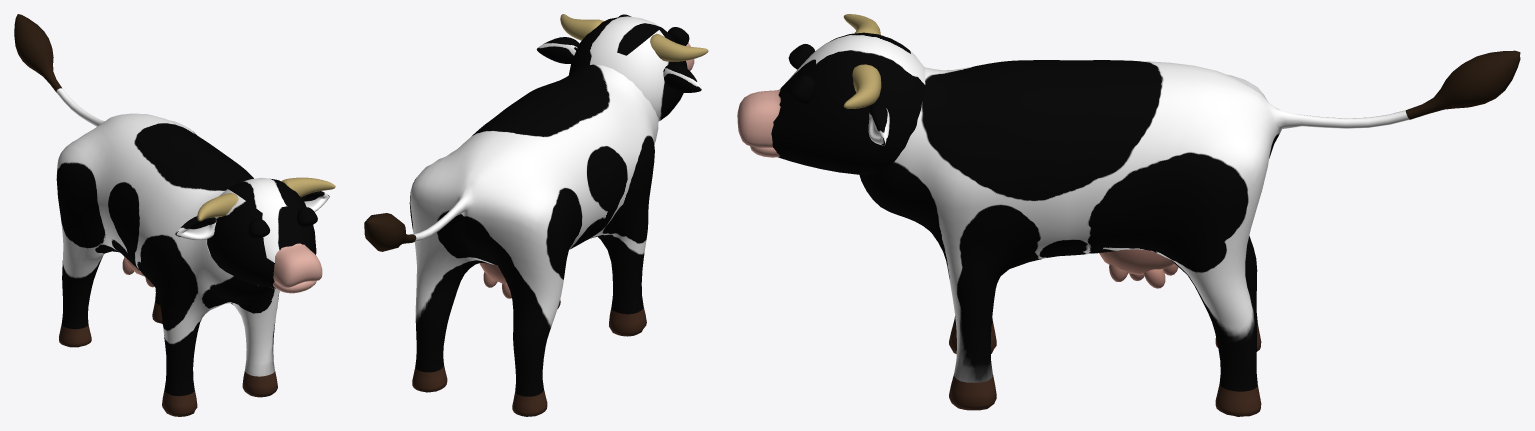
Rendered from Cow.glb.
3 views of the same model, side by side, from view 1: azimuth 30°, elevation 25°; view 2: azimuth 150°, elevation 25°; view 3: azimuth 270°, elevation 25° (orthographic). The views are drawn at different scales.
Parts seen in each view (by area): view 1: Cow, Eyes_Cow; view 2: Cow; view 3: Cow, Eyes_Cow.
Part boxes in pixels (box(x1,y1,x2,y2)): Cow: box(14, 14, 335, 416); Eyes_Cow: box(248, 207, 317, 238); Cow: box(364, 14, 708, 416); Cow: box(737, 14, 1520, 416); Eyes_Cow: box(788, 44, 815, 103).
Size of the model in its own units: 0.9302 by 1.45 by 3.02.
Materials: 7 (1 with a texture image).
